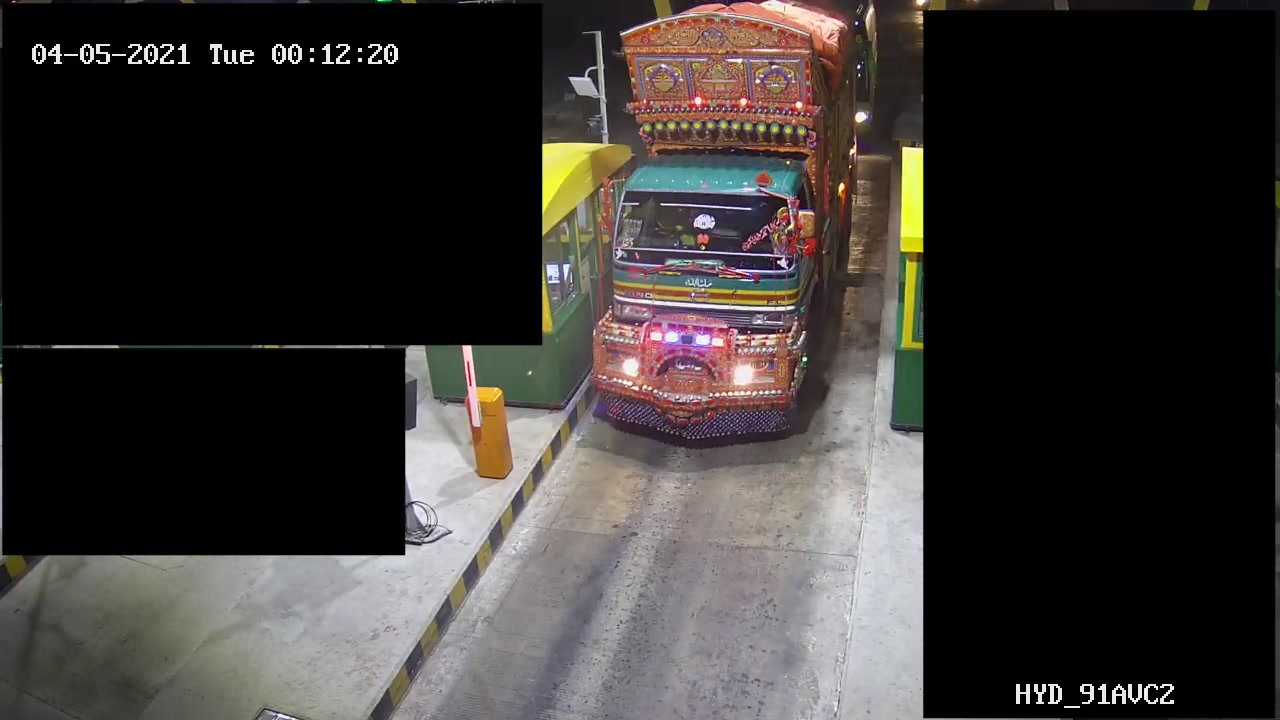F5: (576, 1, 868, 441)
